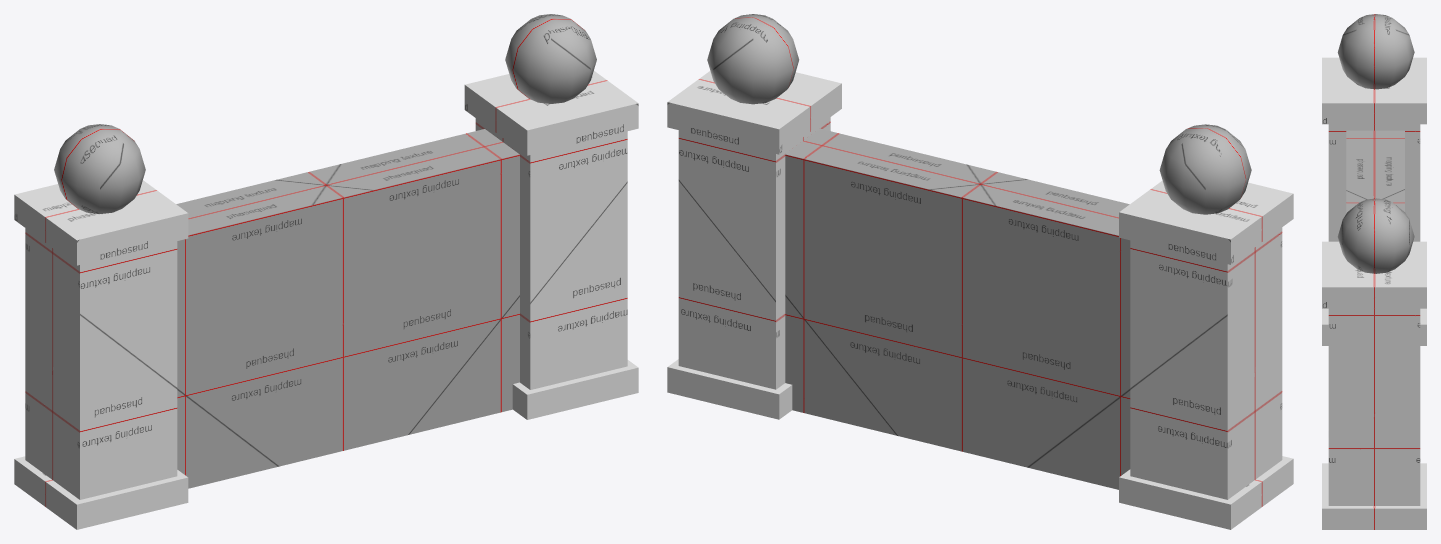
File: D_fence_04.FBX
The picture shows the model from 3 angles, left to right: view 1: azimuth 30°, elevation 25°; view 2: azimuth 150°, elevation 25°; view 3: azimuth 270°, elevation 25°; orthographic projection. The views are drawn at different scales.
Parts seen in each view (by area): view 1: fence_04, fence_04_add, fence_04_extra_a, fence_04_extra_b; view 2: fence_04, fence_04_add, fence_04_extra_a, fence_04_extra_b; view 3: fence_04_add, fence_04, fence_04_extra_a, fence_04_extra_b.
Part boxes in pixels (left/top/right/bottom): fence_04: left=14, top=129, right=519, bottom=529; fence_04_add: left=464, top=71, right=638, bottom=419; fence_04_extra_a: left=54, top=124, right=145, bottom=213; fence_04_extra_b: left=505, top=14, right=596, bottom=103; fence_04: left=785, top=129, right=1293, bottom=529; fence_04_add: left=667, top=71, right=841, bottom=419; fence_04_extra_a: left=1159, top=124, right=1251, bottom=214; fence_04_extra_b: left=707, top=14, right=799, bottom=104; fence_04_add: left=1322, top=241, right=1426, bottom=529; fence_04: left=1322, top=57, right=1426, bottom=345; fence_04_extra_a: left=1337, top=14, right=1414, bottom=89; fence_04_extra_b: left=1337, top=198, right=1414, bottom=273.
Size of the model in its own units: 12.48 by 2.41 by 7.74.
